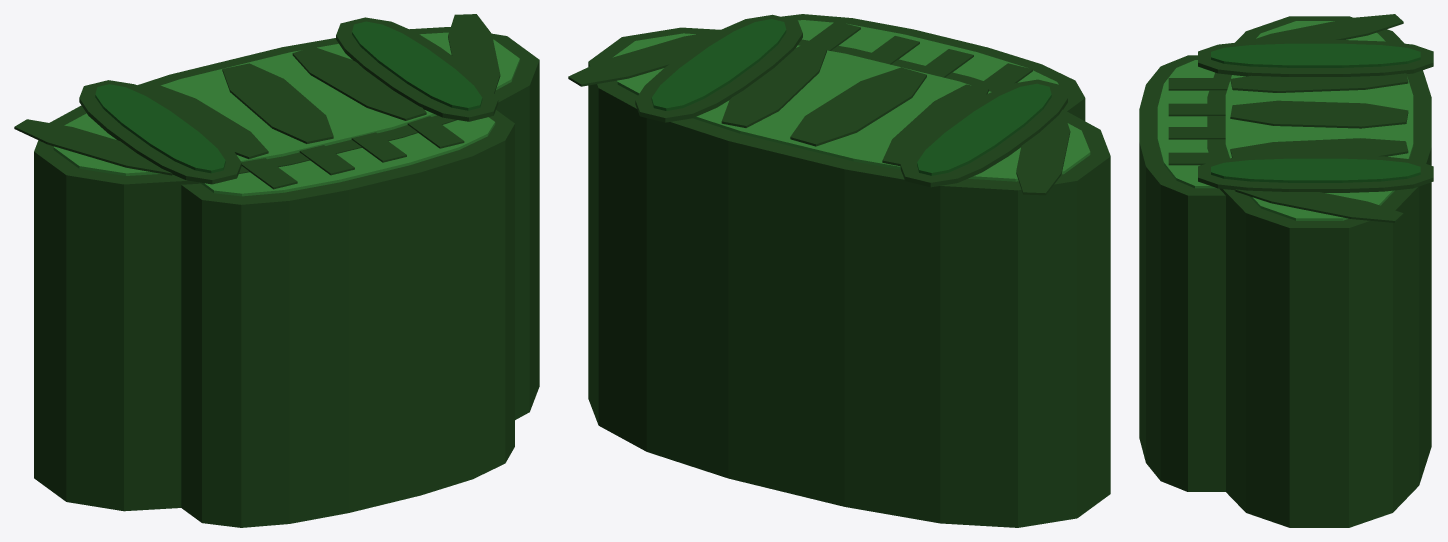
The model's file is bag_melancia.fbx.
The picture shows the model from 3 angles, left to right: view 1: azimuth 30°, elevation 25°; view 2: azimuth 150°, elevation 25°; view 3: azimuth 270°, elevation 25°; orthographic projection. The views are drawn at different scales.
Parts seen in each view (by area): view 1: bag_melancia_mochila; view 2: bag_melancia_mochila; view 3: bag_melancia_mochila.
Boxes of the visible parts, x1=… form: bag_melancia_mochila: x1=14, y1=14, x2=539, y2=527; bag_melancia_mochila: x1=568, y1=14, x2=1110, y2=527; bag_melancia_mochila: x1=1139, y1=14, x2=1433, y2=527.
Bounding box in the file's own units: 2.73 × 1.86 × 1.6.
1 material, 1 textured.
